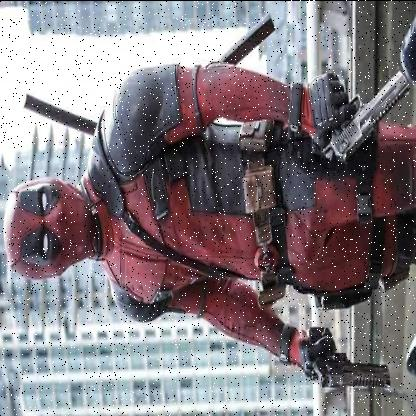rifle: (318, 66, 413, 166), (304, 324, 392, 391)
